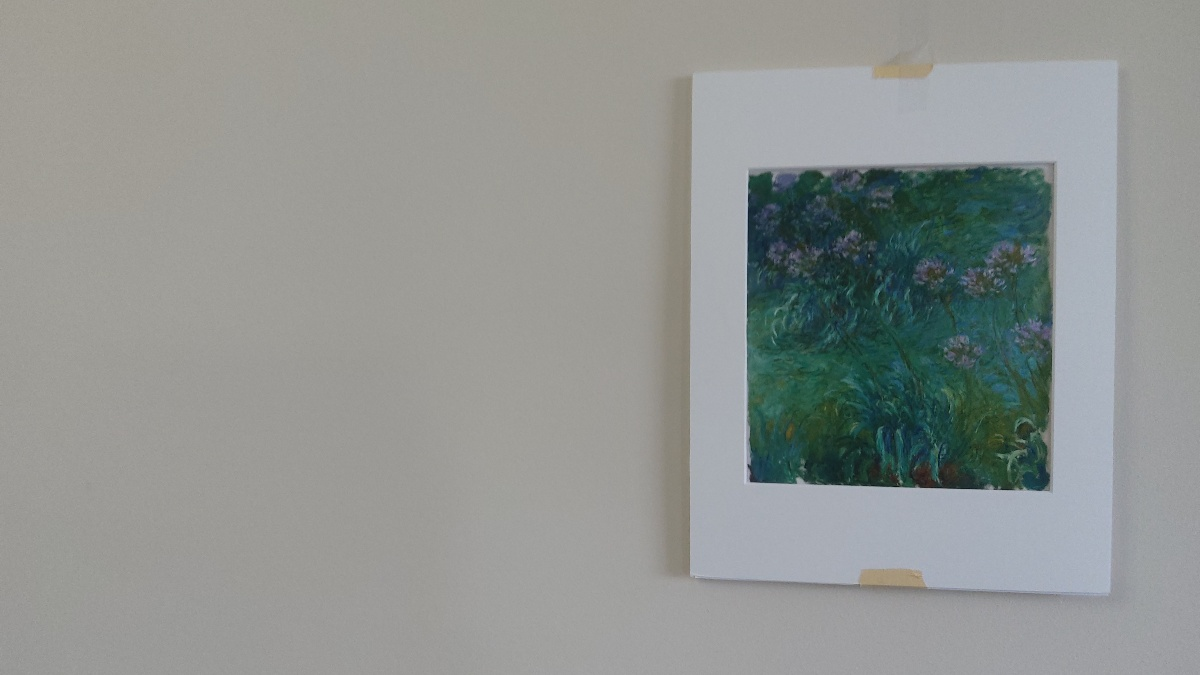painting: (741, 157, 1073, 515)
